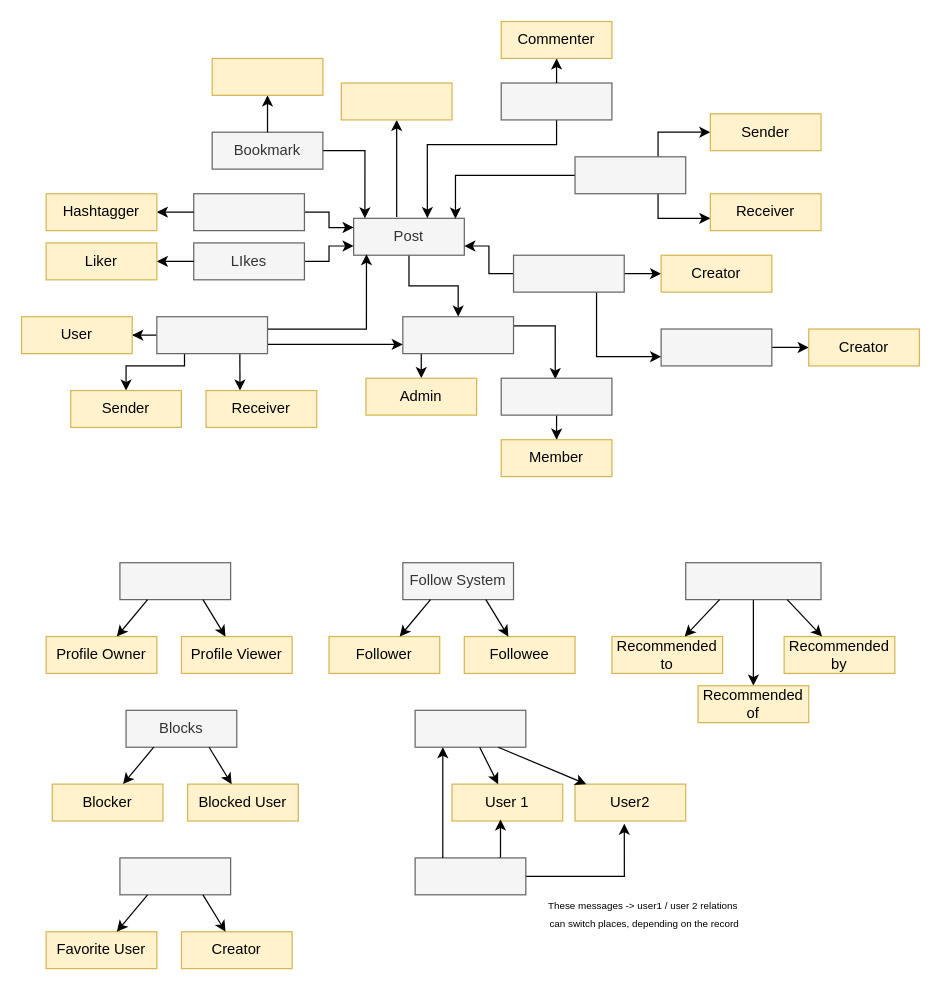
Image size: 941x990. Some labels were removed from this diagram. The box of each missing label's shape, as (x1, y1, x2, y2) in pixels:
Bookmarker: (211, 57, 323, 95)
Comments: (500, 82, 612, 120)
Conversation: (414, 709, 526, 747)
Favs: (119, 857, 231, 895)
Group Members: (500, 377, 612, 415)
Groups: (402, 315, 514, 354)
Hashtags: (192, 192, 304, 231)
Messages: (414, 857, 526, 895)
Notifications: (156, 315, 268, 354)
Post Tags: (512, 254, 624, 292)
Poster: (340, 82, 452, 120)
Profile Views: (119, 561, 231, 600)
Recommendation: (684, 561, 821, 600)
Shares: (574, 156, 686, 194)
Tags: (660, 328, 772, 366)
